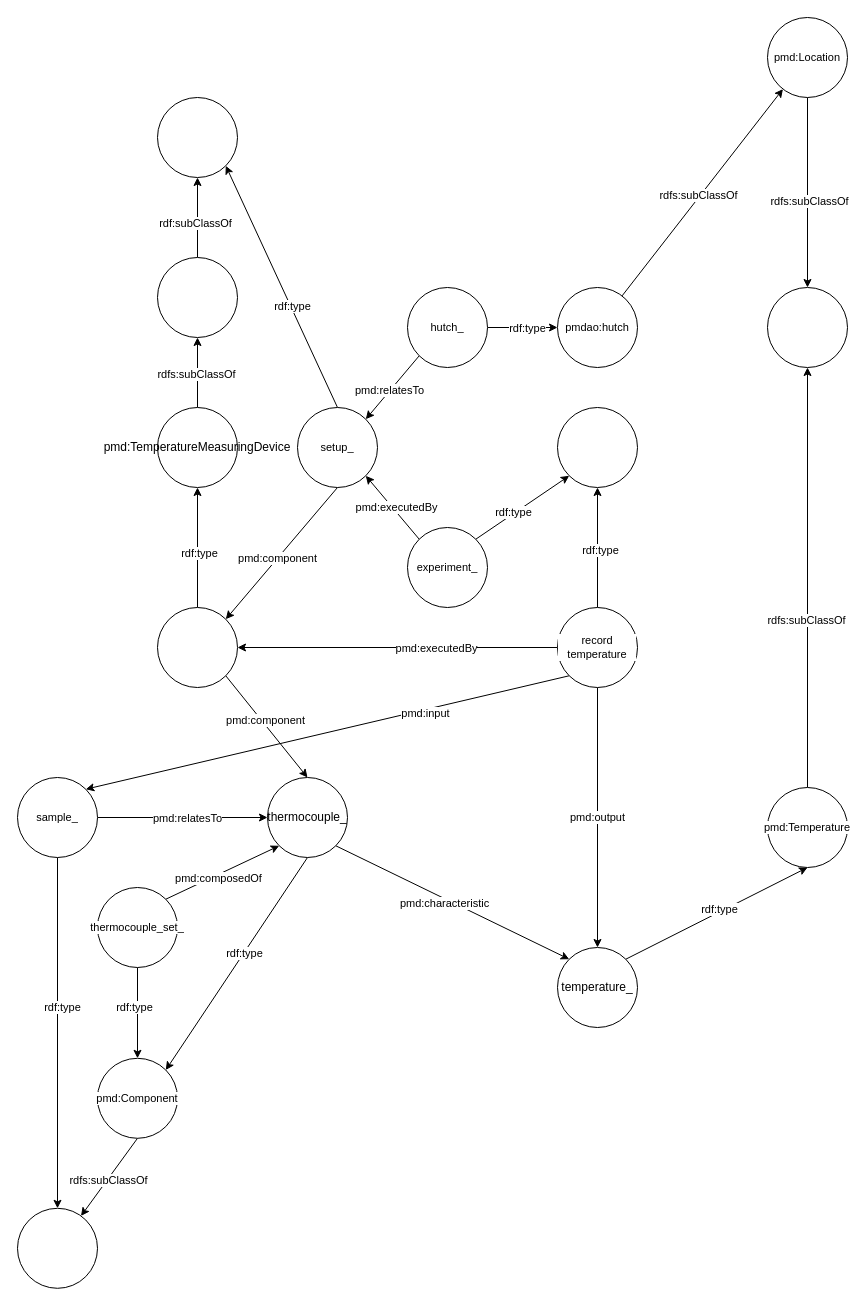
Image size: 868x1314. Some labels were removed from this diagram. Here are the shapes that lost their labels. From the top down, the box of each, then its label:
(156, 96, 238, 178): pmd:ProcessingNode
(156, 256, 238, 338): pmd:MeasuringDevice
(766, 286, 848, 368): pmd:ValueObject
(556, 406, 638, 488): pmd:Process
(156, 606, 238, 688): temperature sensor system_
(16, 1207, 98, 1288): pmd:Object
